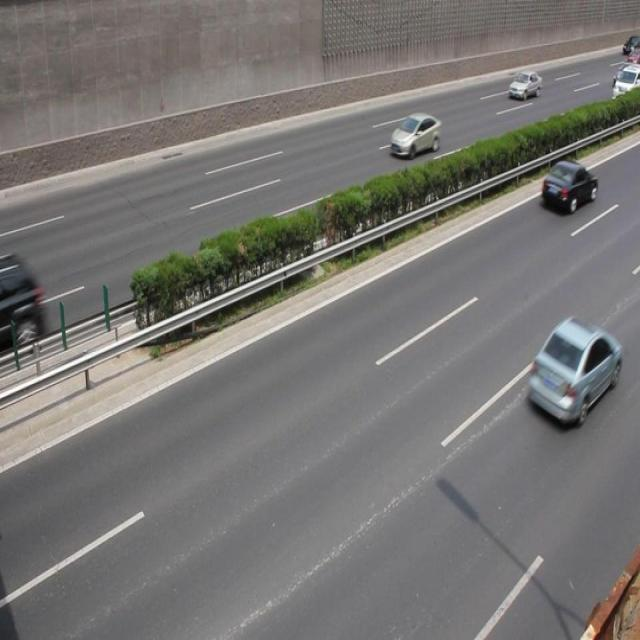car: (526, 313, 621, 425), (1, 253, 44, 357), (539, 160, 596, 215), (388, 111, 441, 159), (508, 70, 540, 102)
